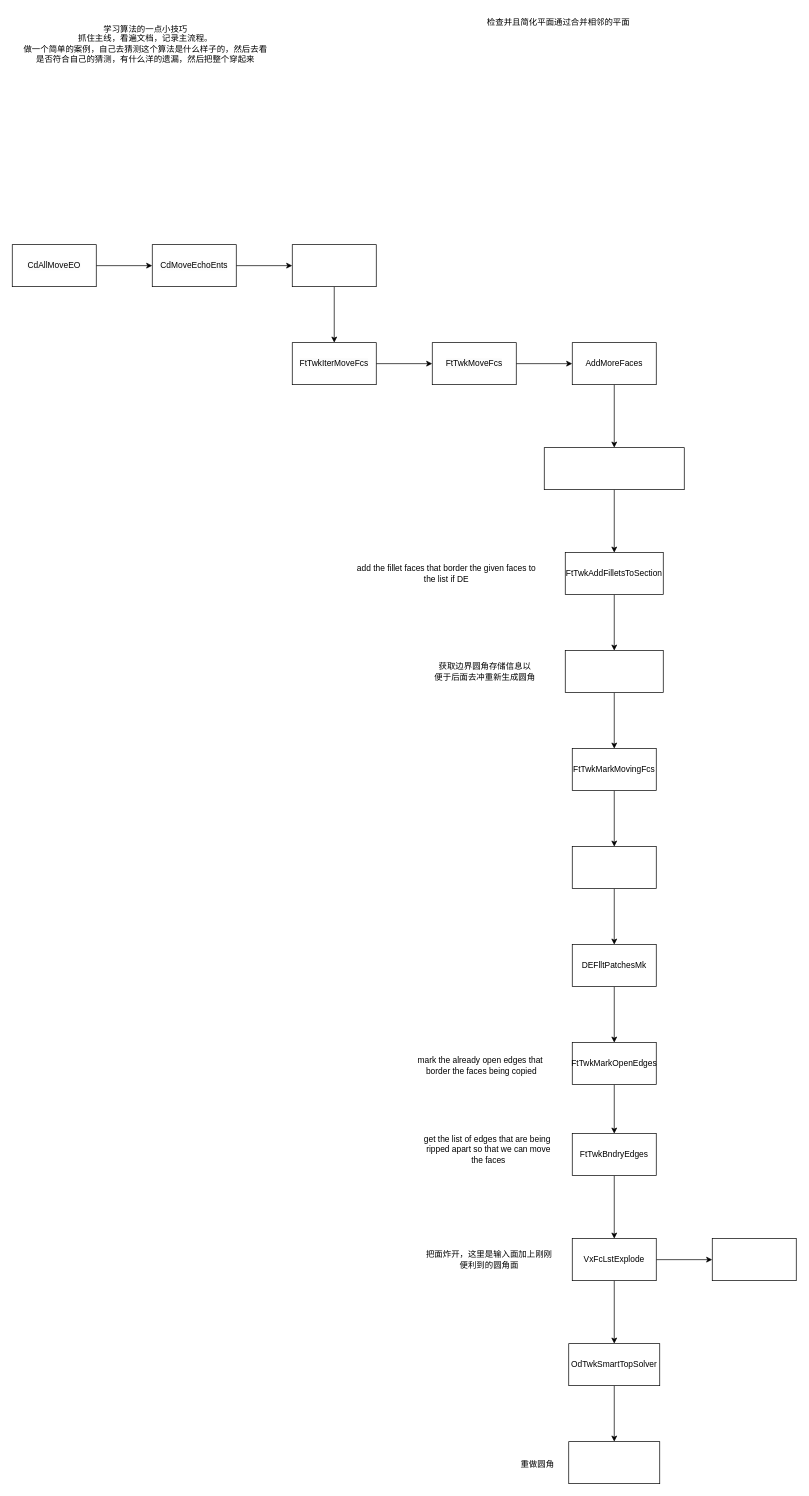
This 809x1496 diagram has some shape labels left out. The centre of each missing label's shape, as x and y in pixels:
DEFlltChnsMk: [614,867]
FaceGetGroups: [334,265]
FindAll2NeighboringFacesAndEdges: [614,468]
FtTwkBndryFllts: [614,671]
ODDEFlltChnFllt: [614,1462]
VxFaceMoveShell: [754,1259]
